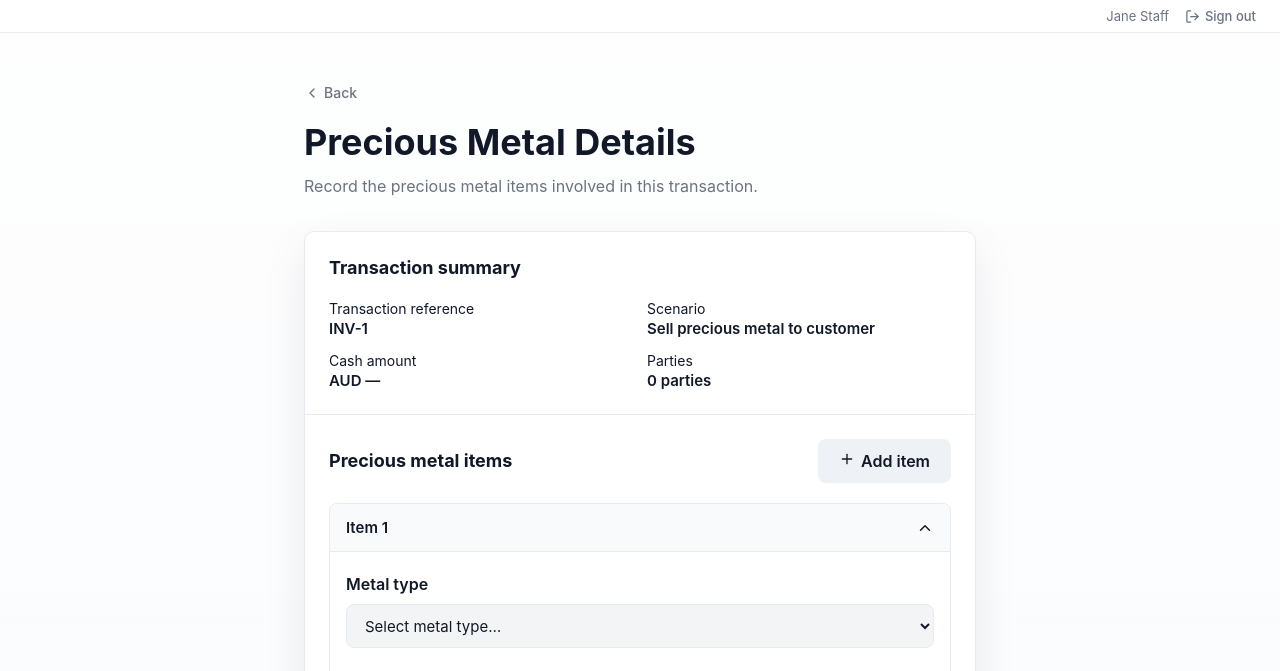
Test case: PreciousMetalDetailsPage › clicking Add item appends a new precious metal item card to the list
Expected: the text "Metal type" is shown, x1=346 y1=574 x2=428 y2=594
Click the button "Add item" at (884, 461), box x1=818 y1=439 x2=951 y2=483
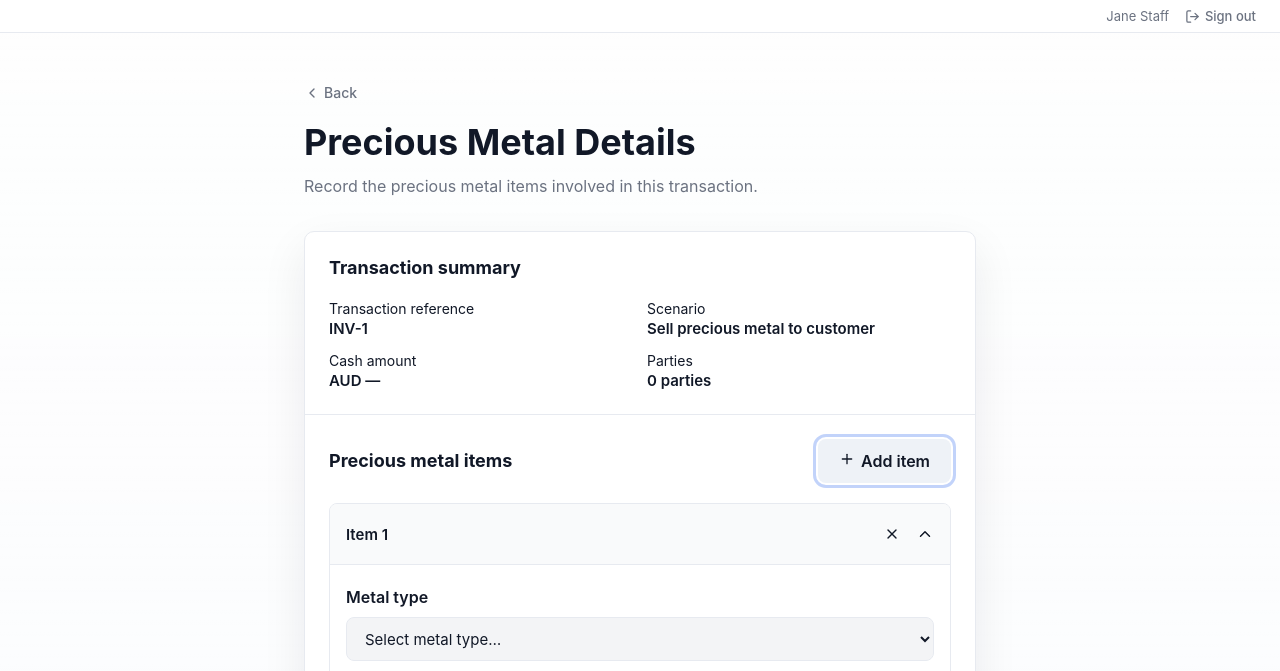
Expected: the text "Metal type" is shown 2 times
